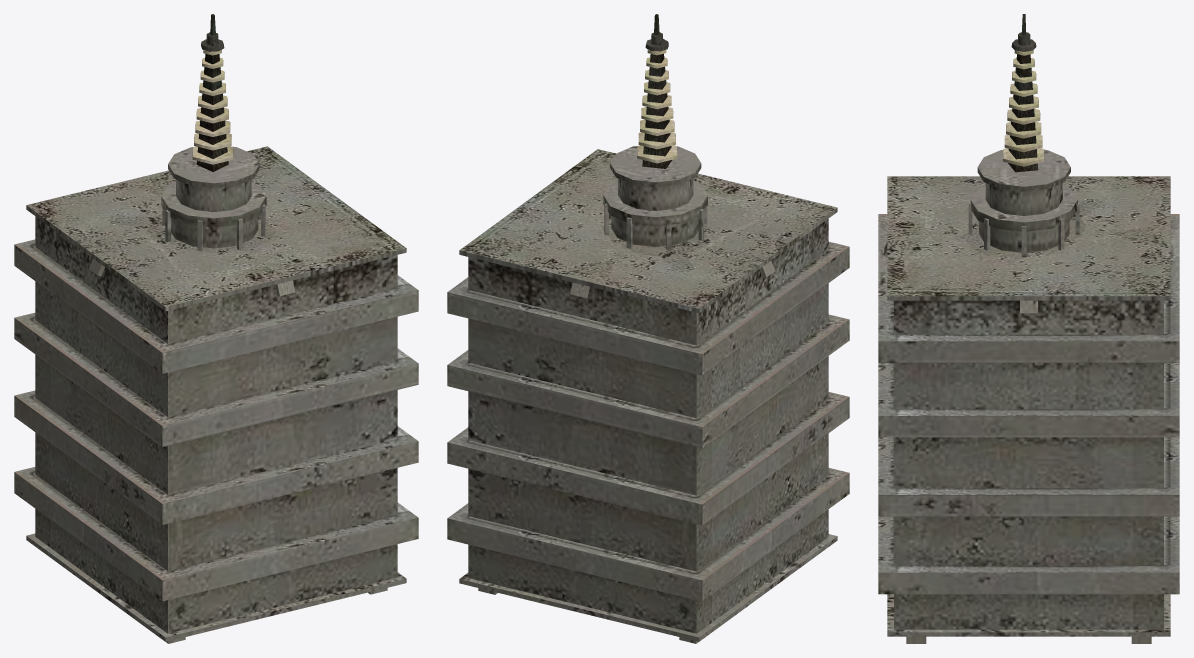
Rendered from substation_stripebox01a.glb.
The picture shows the model from 3 angles, left to right: view 1: azimuth 30°, elevation 25°; view 2: azimuth 150°, elevation 25°; view 3: azimuth 270°, elevation 25°; orthographic projection. The views are drawn at different scales.
Visible parts, largest first — view 1: 0_substation01; view 2: 0_substation01; view 3: 0_substation01.
Boxes of the visible parts, box(x1,y1,x2,y2) form: 0_substation01: box(14, 14, 418, 643); 0_substation01: box(447, 14, 849, 643); 0_substation01: box(878, 14, 1179, 643).
Bounding box in the file's own units: 2.17 × 4.54 × 2.17.
Materials: 1 (1 with a texture image).
